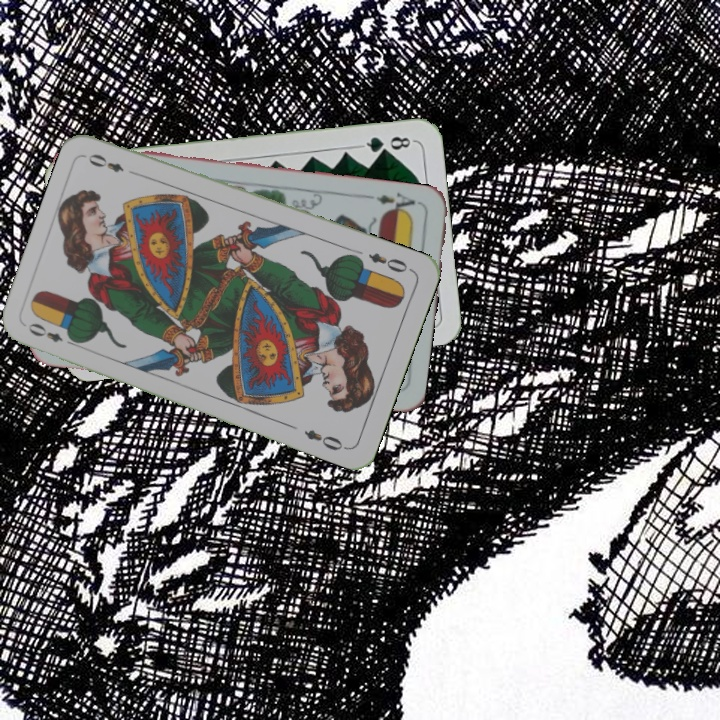EA: (372, 188, 424, 217)
EO: (24, 319, 80, 349), (364, 248, 415, 276)
G8: (357, 132, 416, 156)
